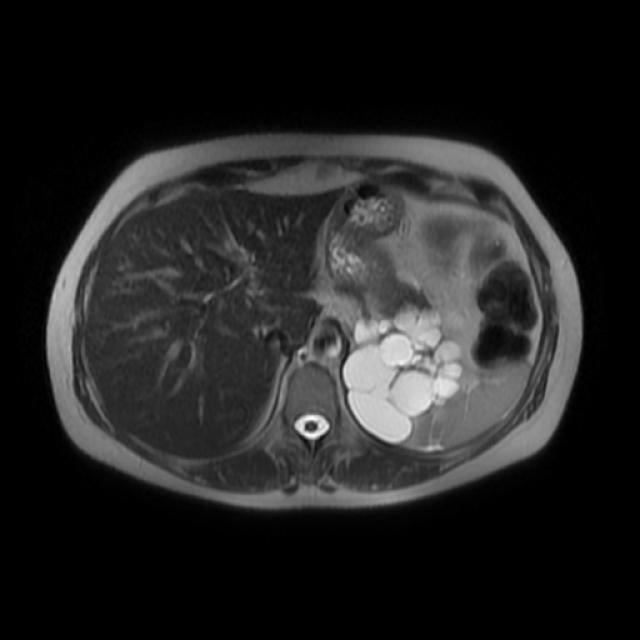sol: (342, 299, 465, 442)
